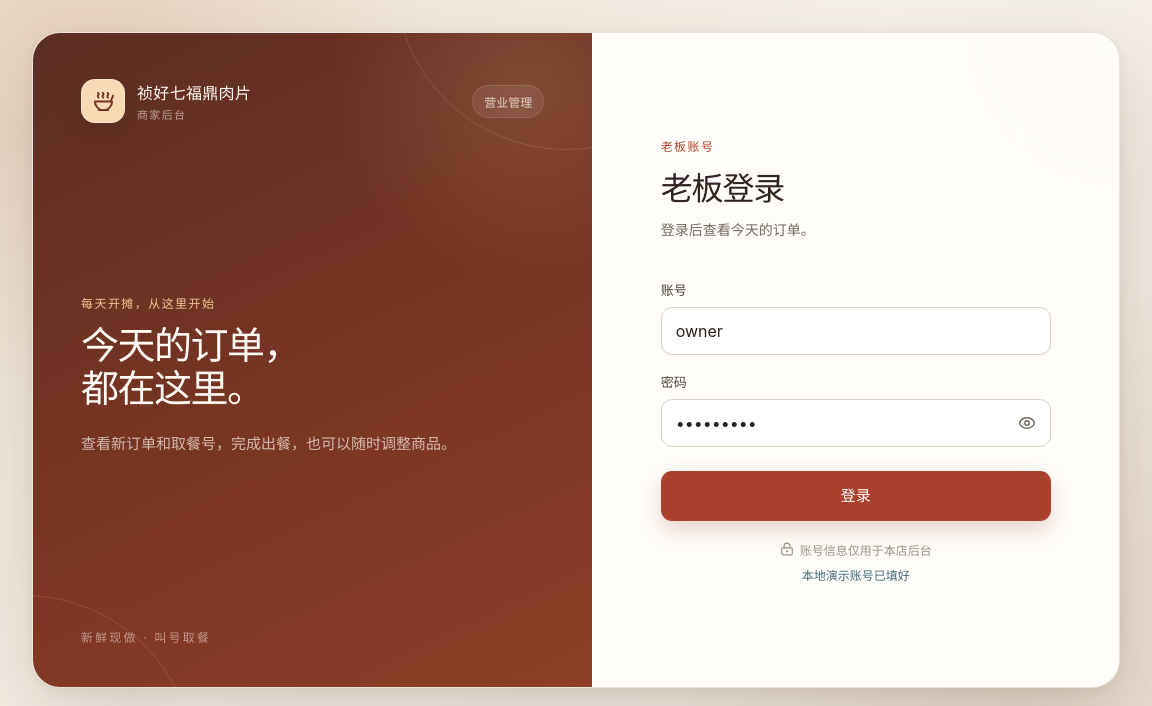
it: merchant V2 app › announces the first order after an empty baseline without treating initial orders as new
Step 1. Click the button "登录" → (856, 496), box [661,470,1051,520]
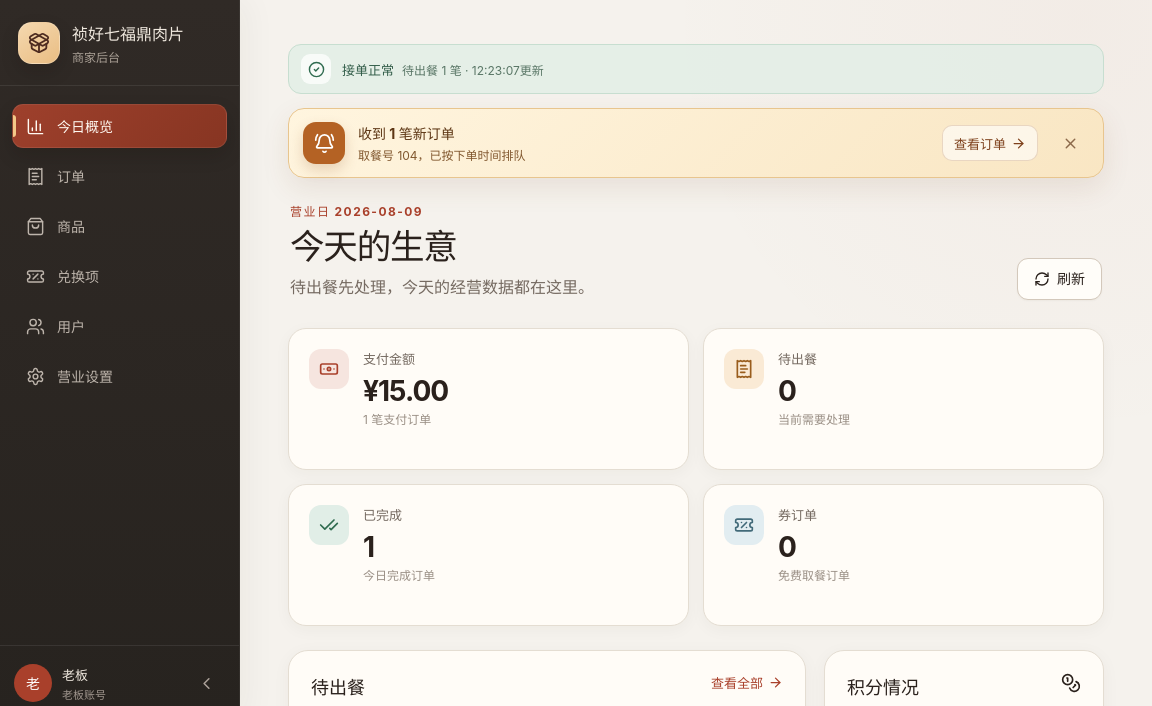
Result: the text "待出餐 0 笔" is shown at [402,60,544,78]
Result: the text "收到 1 笔新订单" is shown at [358,125,455,142]
Result: the text "取餐号 104，已按下单时间排队" is shown at [358,148,526,163]
